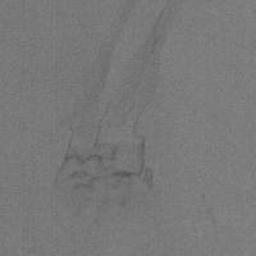Water spot: (52, 0, 200, 225)
